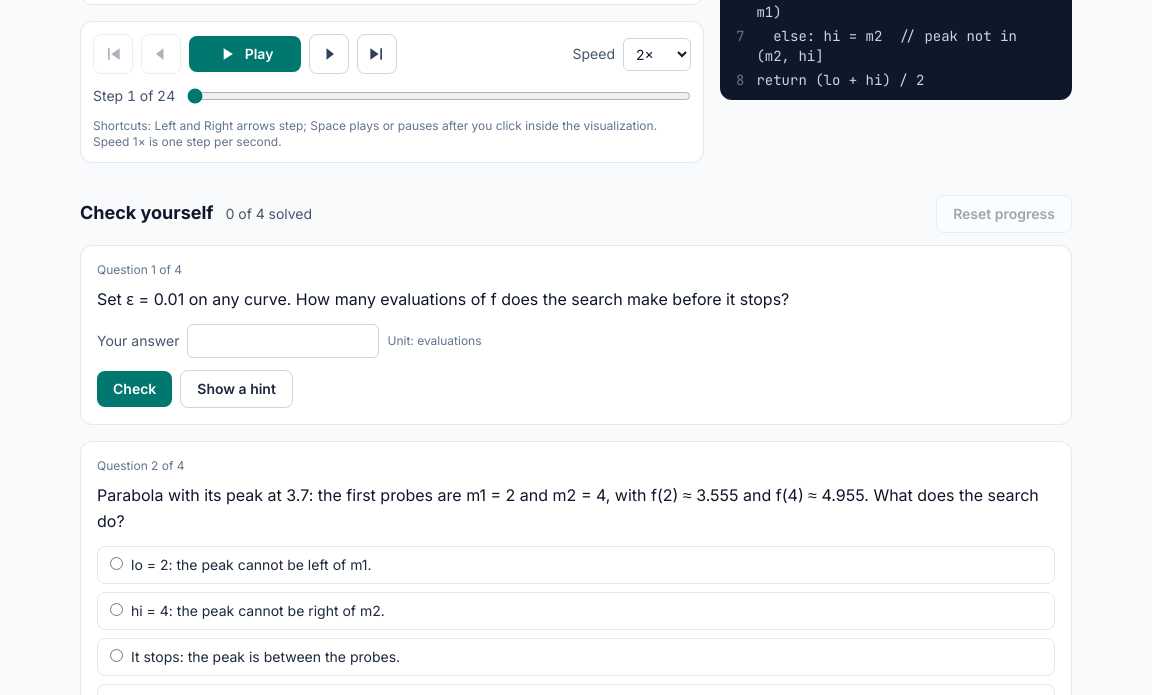
Test: ternary search lesson › checks a practice answer, wrong then right, with a hint
(page scrolled)
Type "16" into the field named "answer" at (284, 341), box 188,324 -> 380,358
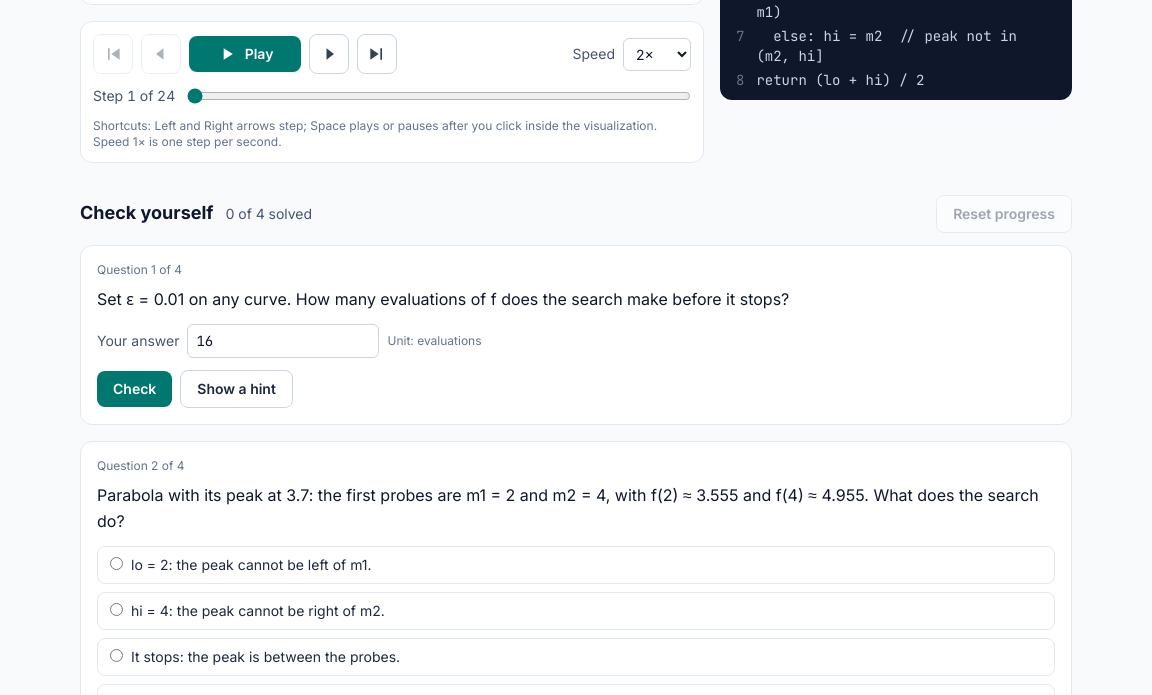
Submit the form "Your answer Unit: evaluations Check Show a hint", box 97,324 -> 482,408
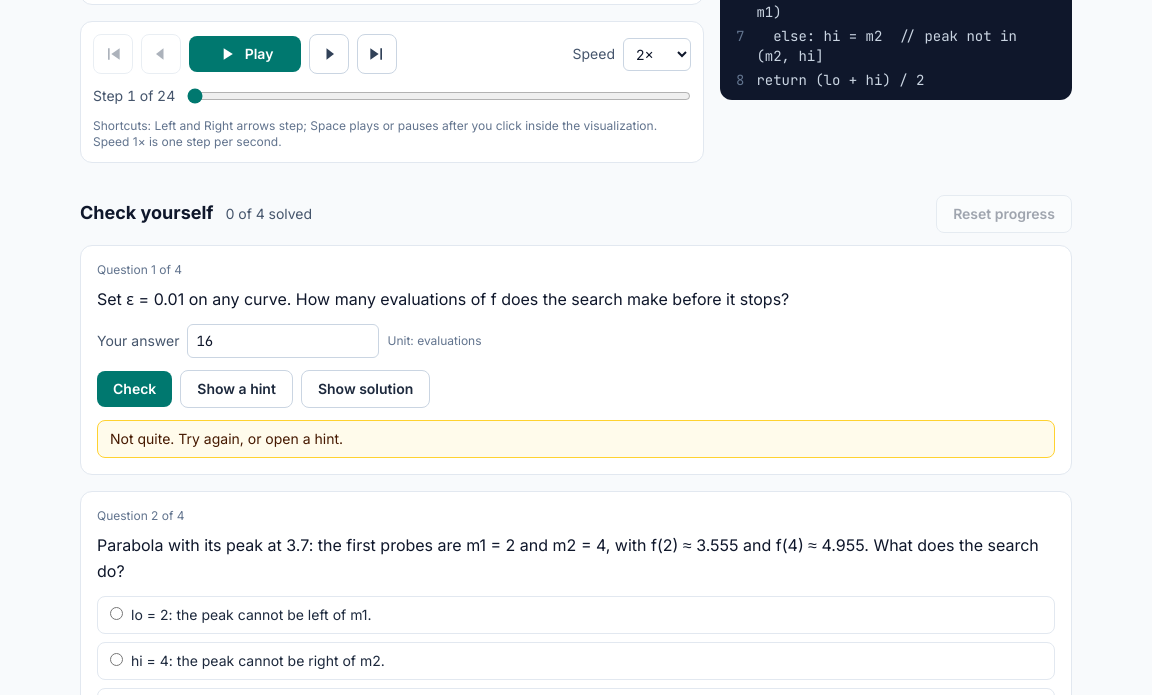
Expected: the list item that starts with "Question 1 of 4" shows "Not quite", 110,430 -> 343,447
Click the button "Show a hint" at (237, 389), box 180,370 -> 293,408
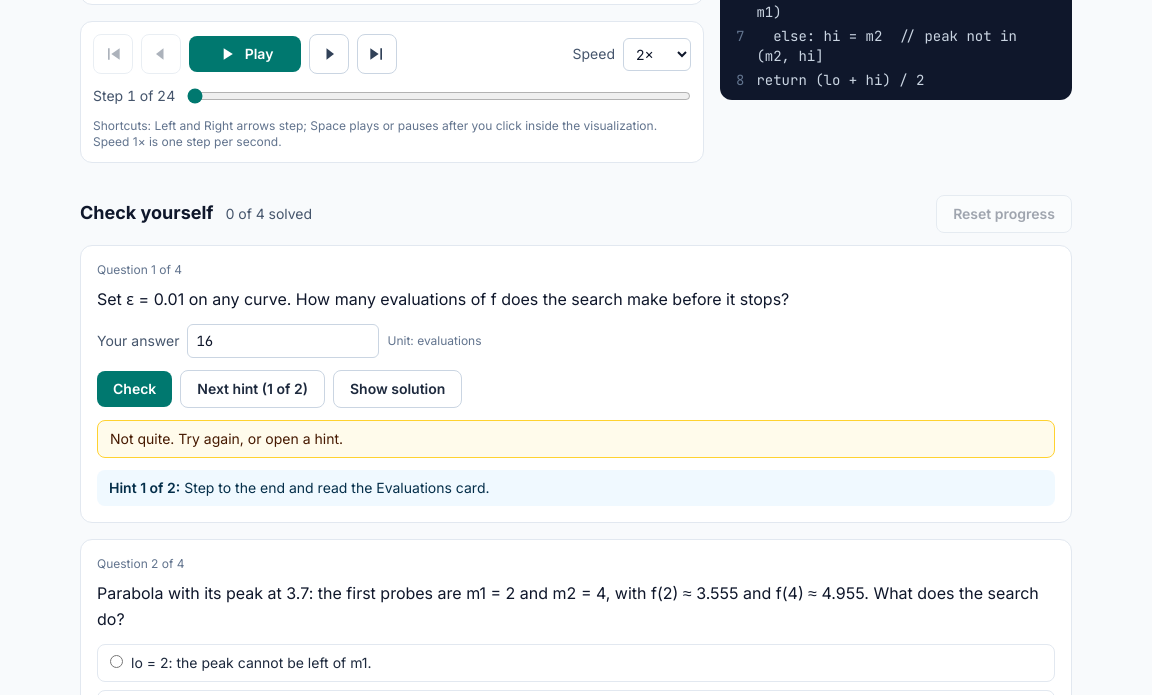
Expected: the list item that starts with "Question 1 of 4" shows "Step to the end and read the Evaluations card.", 180,479 -> 490,496
Replace the text in the field named "answer" with "32" at (284, 341), box 188,324 -> 380,358
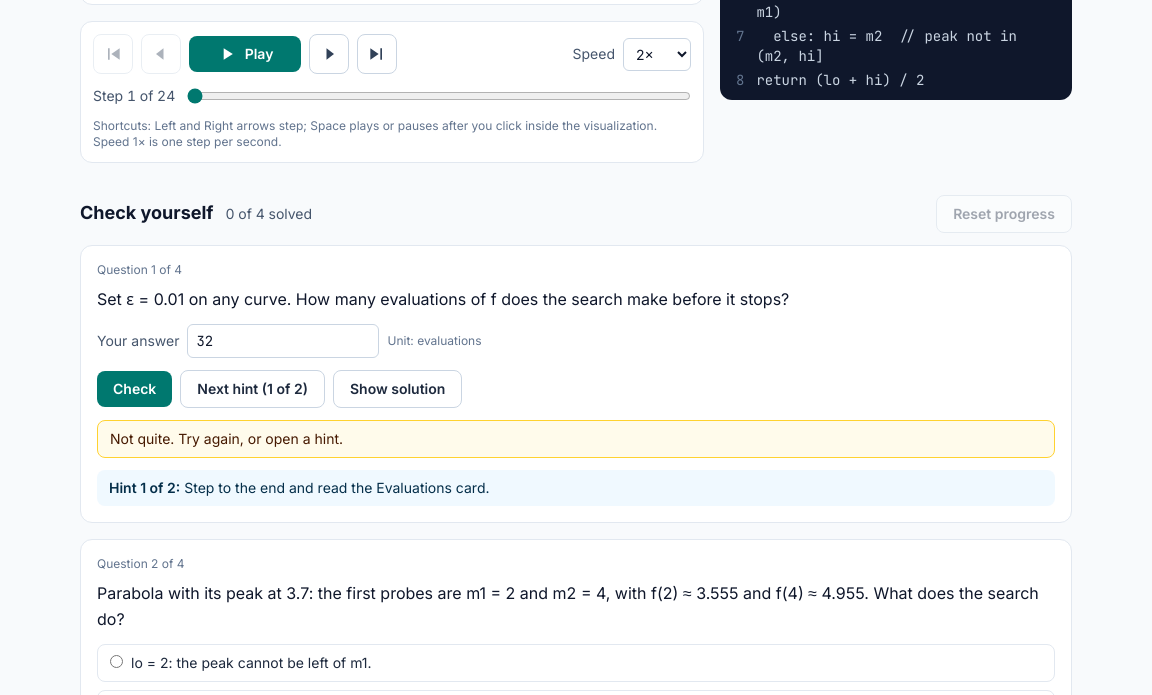
Submit the form that starts with "Your answer", box 97,324 -> 482,408
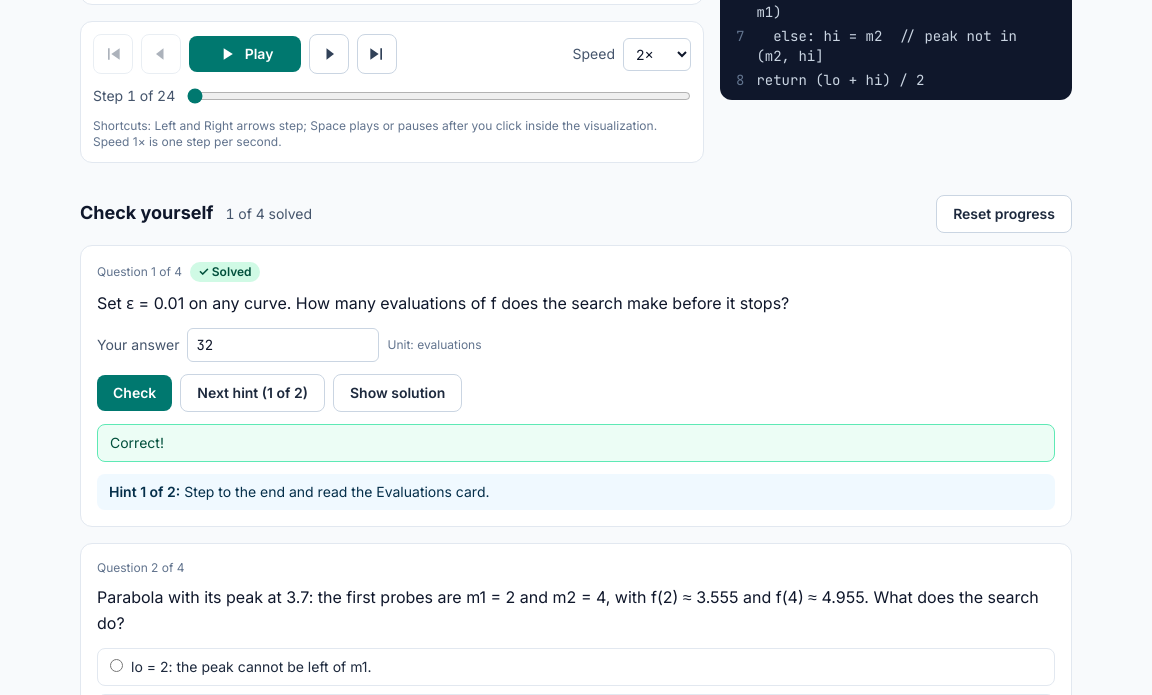
Expected: the list item that starts with "Question 1 of 4" shows "Correct!", 110,434 -> 164,451
